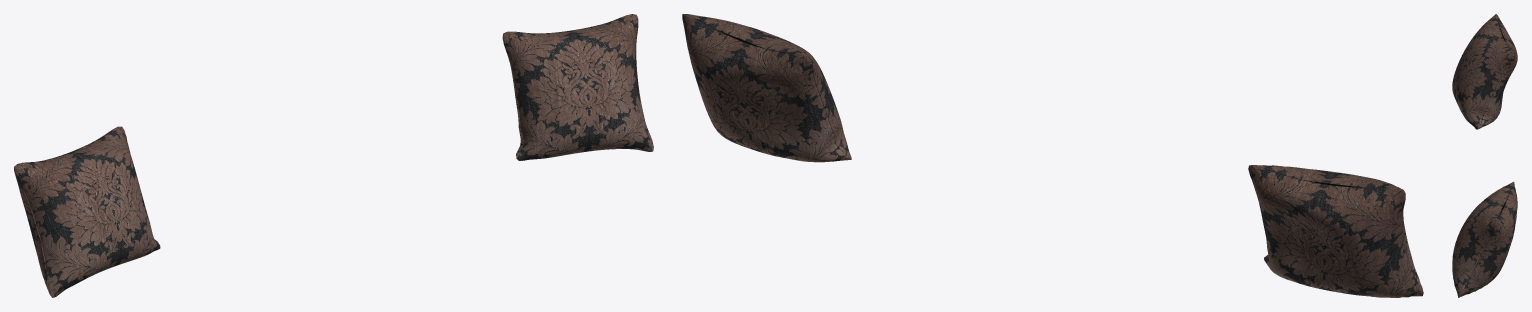
Rendered from Common_Pillow_side_mid.glb.
3 views of the same model, side by side, from view 1: azimuth 30°, elevation 25°; view 2: azimuth 150°, elevation 25°; view 3: azimuth 270°, elevation 25° (orthographic). The views are drawn at different scales.
Parts seen in each view (by area): view 1: Pillow_side_out; view 2: Pillow_side_out; view 3: Pillow_side_out.
Boxes of the visible parts, left/top/right/bottom form: Pillow_side_out: left=14, top=14, right=653, bottom=297; Pillow_side_out: left=682, top=14, right=1423, bottom=297; Pillow_side_out: left=1452, top=14, right=1517, bottom=297.
Bounding box in the file's own units: 2.56 × 0.4561 × 0.3377.
Materials: 1 (1 with a texture image).
